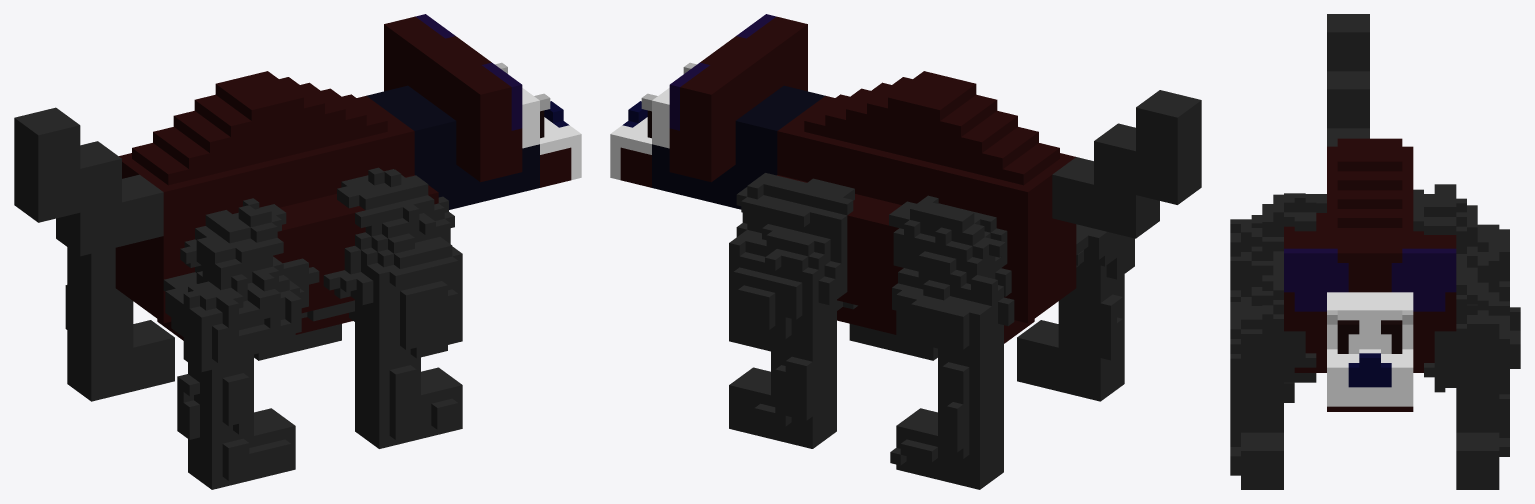
Rendered from sloth.gltf.
3 renders of one model, left to right at view 1: azimuth 30°, elevation 25°; view 2: azimuth 150°, elevation 25°; view 3: azimuth 270°, elevation 25°, orthographic. The views are drawn at different scales.
Visible parts, largest first — view 1: sloth bear; view 2: sloth bear; view 3: sloth bear.
Boxes of the visible parts, box(x1,y1,x2,y2) form: sloth bear: box(14, 14, 581, 489); sloth bear: box(610, 14, 1201, 489); sloth bear: box(1230, 14, 1520, 489).
Size of the model in its own units: 5.2 by 3.2 by 2.7.
1 material, 1 textured.
